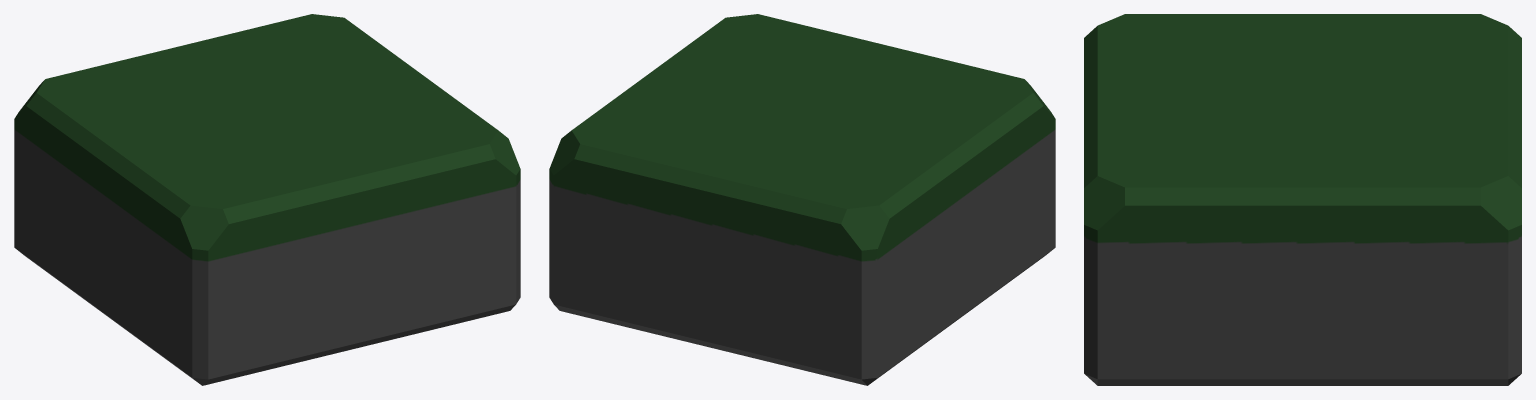
File: HalfGrass.fbx
3 views of the same model, side by side, from view 1: azimuth 30°, elevation 25°; view 2: azimuth 150°, elevation 25°; view 3: azimuth 270°, elevation 25° (orthographic). The views are drawn at different scales.
Visible parts, largest first — view 1: HalfGrass; view 2: HalfGrass; view 3: HalfGrass.
Boxes of the visible parts, x1,y1,x2,y2 form: HalfGrass: [14, 14, 520, 385]; HalfGrass: [549, 14, 1055, 385]; HalfGrass: [1084, 14, 1521, 385].
Bounding box in the file's own units: 352 × 176 × 352.
Materials: 1 (1 with a texture image).
